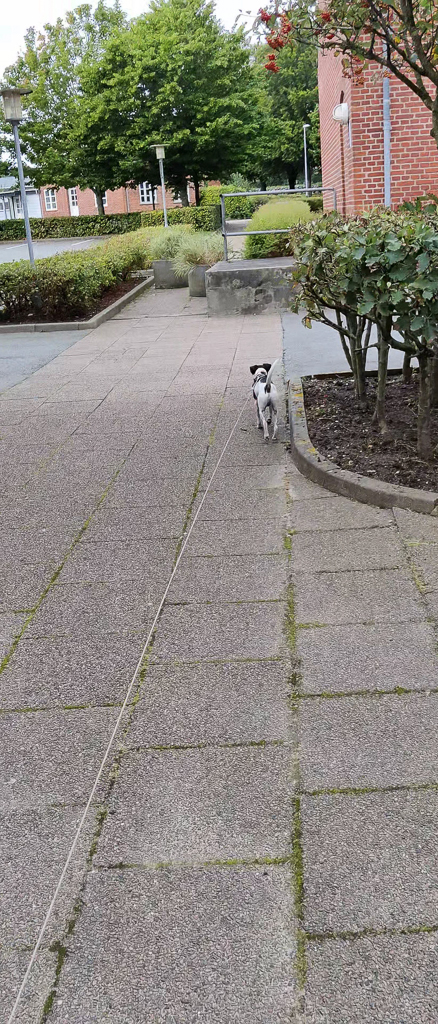Dog: (241, 354, 288, 448)
